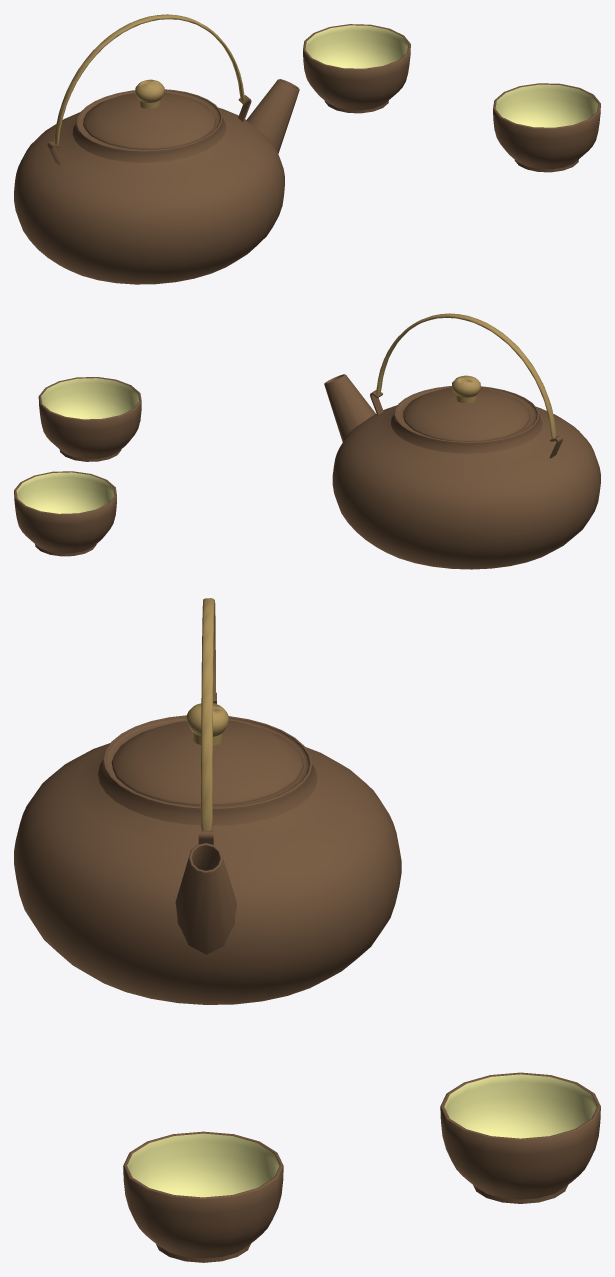
Rendered from teapot.fbx.
The picture shows the model from 3 angles, top to bottom: view 1: azimuth 30°, elevation 25°; view 2: azimuth 150°, elevation 25°; view 3: azimuth 270°, elevation 25°; orthographic projection. The views are drawn at different scales.
Visible parts, largest first — view 1: teapot, cup2, cup1; view 2: teapot, cup2, cup1; view 3: teapot, cup2, cup1.
Boxes of the visible parts, left/top/right/bottom form: teapot: left=14, top=14, right=299, bottom=284; cup2: left=303, top=24, right=410, bottom=113; cup1: left=493, top=83, right=600, bottom=172; teapot: left=324, top=313, right=600, bottom=569; cup2: left=14, top=471, right=116, bottom=556; cup1: left=38, top=377, right=141, bottom=461; teapot: left=14, top=598, right=401, bottom=1004; cup2: left=440, top=1072, right=600, bottom=1203; cup1: left=123, top=1131, right=283, bottom=1262.
Size of the model in its own units: 33.34 by 13.34 by 20.43.
